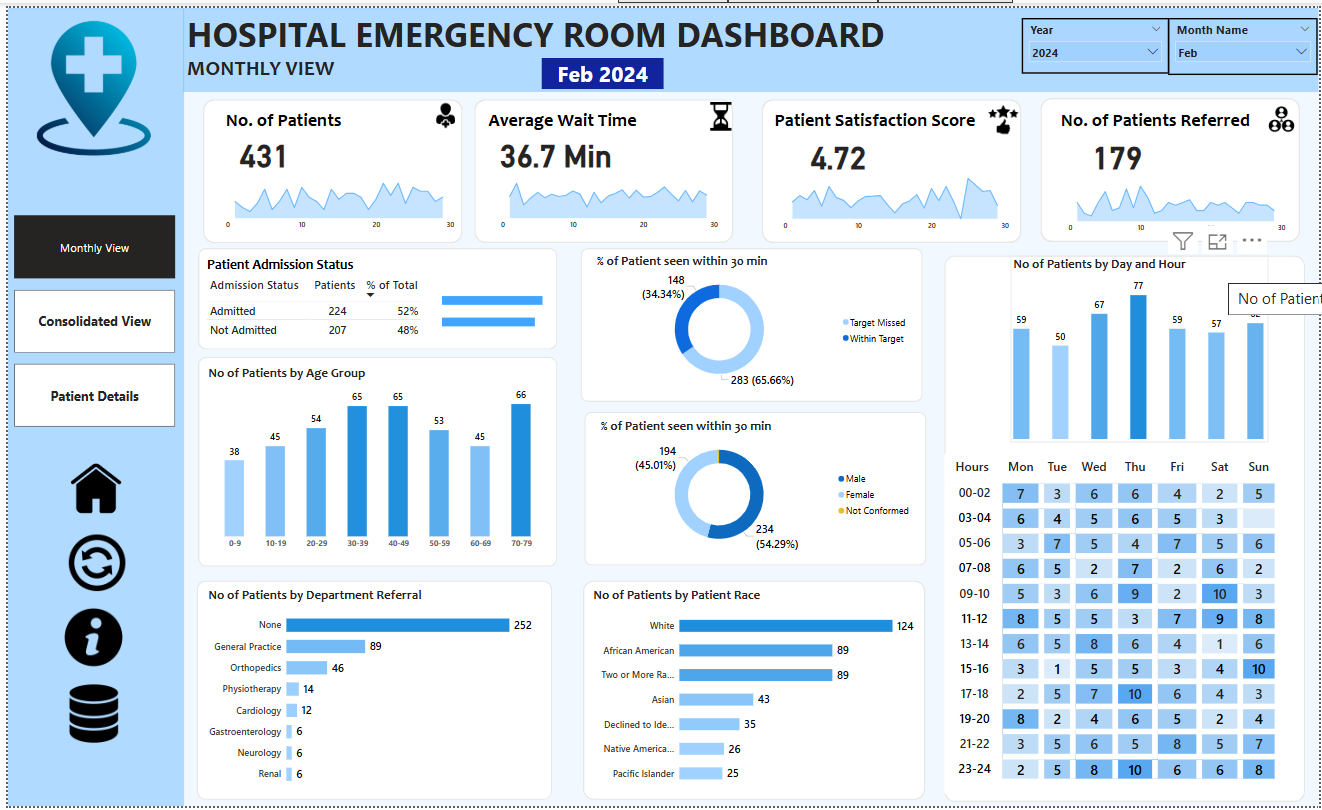

The page's visual inventory and layout, read from the dashboard file:
{"tool":"powerbi","page":{"name":"Monthly View","canvas":[2300,1400],"ordinal":0},"visuals":[{"type":"shape","box":[0,0,309.1,1400.5],"z":0},{"type":"shape","box":[307.5,0,1992.5,147.5],"z":1000},{"type":"textbox","box":[310,0,1250,117.5],"z":2000},{"type":"shape","box":[342.5,160,455,252.5],"z":3000},{"type":"textbox","box":[308,76,282,84],"z":4000},{"type":"card","fields":{"Values":["Hospital ER_Data.No of Patients"]},"box":[377.5,215,145,75],"z":5000},{"type":"slicer","fields":{"Values":["Date Table.Month Name"]},"box":[2034.9,18.6,262.8,100],"z":6000},{"type":"slicer","fields":{"Values":["Date Table.Year"]},"box":[1776.7,18.6,258.1,97.7],"z":7000},{"type":"shape","box":[818,160,454,252],"z":8000},{"type":"textbox","box":[837.5,170,287.5,50],"z":9000},{"type":"areaChart","fields":{"Category":["Date Table.Date.Variation.Date Hierarchy.Day"],"Y":["Hospital ER_Data.No of Patients"]},"box":[355,282.5,430,115],"z":10000},{"type":"card","fields":{"Values":["Min(Date Table.Month & Year)"]},"box":[936.8,88,214,54.7],"z":11000},{"type":"shape","box":[1320.8,159.3,455,252],"z":12000},{"type":"shape","box":[1810,157.5,455,252.5],"z":13000},{"type":"card","fields":{"Values":["Hospital ER_Data.Avg wait time"]},"box":[857.5,215,207.5,75],"z":14000},{"type":"textbox","box":[377.5,170,222.5,50],"z":15000},{"type":"areaChart","fields":{"Category":["Date Table.Date.Variation.Date Hierarchy.Day"],"Y":["Avg(Hospital ER_Data.Patient Waittime)"]},"box":[837.5,282.5,410,115],"z":16000},{"type":"textbox","box":[1340,170,392.5,50],"z":17000},{"type":"areaChart","fields":{"Category":["Date Table.Date.Variation.Date Hierarchy.Day"],"Y":["Hospital ER_Data.Satisfaction score"]},"box":[1332.5,285,425,115],"z":18000},{"type":"card","fields":{"Values":["Hospital ER_Data.Satisfaction score"]},"box":[1352.5,220,207.5,75],"z":19000},{"type":"textbox","box":[1840,170,392.5,50],"z":20000},{"type":"card","fields":{"Values":["Hospital ER_Data.No of patients referred"]},"box":[1840,220,207.5,75],"z":21000},{"type":"areaChart","fields":{"Category":["Date Table.Date.Variation.Date Hierarchy.Day"],"Y":["Hospital ER_Data.No of patients referred"]},"box":[1832.5,290,410,115],"z":22000},{"type":"shape","box":[334,420,630,178],"z":23000},{"type":"pivotTable","title":"Patient Admission Status","fields":{"Rows":["Hospital ER_Data.Admission status"],"Values":["Hospital ER_Data.No of Patients1","Hospital ER_Data.No of Patients"]},"box":[344.8,434.4,606,164],"z":24000},{"type":"barChart","fields":{"Category":["Hospital ER_Data.Admission status"],"Y":["Hospital ER_Data.No of Patients"]},"box":[756.8,472.8,246,112],"z":25000},{"type":"shape","box":[332.4,610.8,630,368],"z":26000},{"type":"clusteredColumnChart","fields":{"Category":["Hospital ER_Data.Age Group"],"Y":["Hospital ER_Data.No of Patients"]},"box":[346.4,624.8,606,334],"z":27000},{"type":"shape","box":[330.8,1003.1,623.1,384.6],"z":28000},{"type":"clusteredBarChart","fields":{"Category":["Hospital ER_Data.Department Referral"],"Y":["Hospital ER_Data.No of Patients"]},"box":[346.2,1015.4,580,361.5],"z":29000},{"type":"shape","box":[1004,420,600,270],"z":30000},{"type":"donutChart","title":"% of Patient seen within 30 min","fields":{"Category":["Hospital ER_Data.Waittime Status"],"Y":["Hospital ER_Data.No of Patients"]},"box":[1028.3,430,560,240],"z":31000},{"type":"shape","box":[1010,708.7,600,270],"z":32000},{"type":"donutChart","title":"% of Patient seen within 30 min","fields":{"Y":["Hospital ER_Data.No of Patients"],"Category":["Hospital ER_Data.Patient Gender"]},"box":[1034.3,718.7,560,240],"z":33000},{"type":"shape","box":[1007.7,1003.1,600,384.6],"z":34000},{"type":"clusteredBarChart","fields":{"Y":["Hospital ER_Data.No of Patients"],"Category":["Hospital ER_Data.Patient Race"]},"box":[1021.5,1015.4,572.3,361.5],"z":35000},{"type":"shape","box":[1641.9,434.9,632.6,958.1],"z":36000},{"type":"pivotTable","fields":{"Rows":["Hospital ER_Data.Waittime Interval"],"Columns":["Date Table.Day Name"],"Values":["Hospital ER_Data.No of Patients"]},"box":[1641.9,781.4,604.7,595.3],"z":37000},{"type":"columnChart","title":"No of Patients by Day and Hour","fields":{"Category":["Date Table.Day Name"],"Y":["Hospital ER_Data.No of Patients"]},"box":[1758.1,434.9,451.2,327.9],"z":38000},{"type":"image","box":[739.5,155.8,58.1,65.1],"z":39000},{"type":"image","box":[1146.5,160.5,207,60.5],"z":40000},{"type":"image","box":[1714,148.8,62.8,93],"z":41000},{"type":"image","box":[2204.7,155.8,55.8,79.1],"z":42000},{"type":"image","box":[0,18.6,300,246.5],"z":43000},{"type":"pageNavigator","box":[12,364,282,370],"z":44000},{"type":"image","box":[0,794.2,309.1,97.5],"z":45000},{"type":"image","box":[7.1,917.8,299.6,109.4],"z":46000},{"type":"image","box":[0,1179.4,299.6,116.5],"z":47000},{"type":"image","box":[0,1046.2,299.6,116.5],"z":48000}]}

Visuals, with their boxes in screenshot pixels (x1, y1, x2, y2), scaled from the page's 2300x1400 canvas onto the 1322x810 screenshot:
shape: rect(0, 0, 178, 809)
shape: rect(177, 0, 1321, 85)
textbox: rect(178, 0, 897, 68)
shape: rect(197, 93, 458, 239)
textbox: rect(177, 44, 339, 93)
card - Hospital ER_Data.No of Patients: rect(217, 124, 300, 168)
slicer - Date Table.Month Name: rect(1170, 11, 1321, 69)
slicer - Date Table.Year: rect(1021, 11, 1170, 67)
shape: rect(470, 93, 731, 238)
textbox: rect(481, 98, 647, 127)
areaChart - Date Table.Date.Variation.Date Hierarchy.Day x Hospital ER_Data.No of Patients: rect(204, 163, 451, 230)
card - Min(Date Table.Month & Year): rect(538, 51, 661, 83)
shape: rect(759, 92, 1021, 238)
shape: rect(1040, 91, 1302, 237)
card - Hospital ER_Data.Avg wait time: rect(493, 124, 612, 168)
textbox: rect(217, 98, 345, 127)
areaChart - Date Table.Date.Variation.Date Hierarchy.Day x Avg(Hospital ER_Data.Patient Waittime): rect(481, 163, 717, 230)
textbox: rect(770, 98, 996, 127)
areaChart - Date Table.Date.Variation.Date Hierarchy.Day x Hospital ER_Data.Satisfaction score: rect(766, 165, 1010, 231)
card - Hospital ER_Data.Satisfaction score: rect(777, 127, 897, 171)
textbox: rect(1058, 98, 1283, 127)
card - Hospital ER_Data.No of patients referred: rect(1058, 127, 1177, 171)
areaChart - Date Table.Date.Variation.Date Hierarchy.Day x Hospital ER_Data.No of patients referred: rect(1053, 168, 1289, 234)
shape: rect(192, 243, 554, 346)
"Patient Admission Status" pivotTable: rect(198, 251, 547, 346)
barChart - Hospital ER_Data.Admission status x Hospital ER_Data.No of Patients: rect(435, 274, 576, 338)
shape: rect(191, 353, 553, 566)
clusteredColumnChart - Hospital ER_Data.Age Group x Hospital ER_Data.No of Patients: rect(199, 361, 547, 555)
shape: rect(190, 580, 548, 803)
clusteredBarChart - Hospital ER_Data.Department Referral x Hospital ER_Data.No of Patients: rect(199, 587, 532, 797)
shape: rect(577, 243, 922, 399)
"% of Patient seen within 30 min" donutChart: rect(591, 249, 913, 388)
shape: rect(581, 410, 925, 566)
"% of Patient seen within 30 min" donutChart: rect(594, 416, 916, 555)
shape: rect(579, 580, 924, 803)
clusteredBarChart - Hospital ER_Data.No of Patients x Hospital ER_Data.Patient Race: rect(587, 587, 916, 797)
shape: rect(944, 252, 1307, 806)
pivotTable - Hospital ER_Data.Waittime Interval x Date Table.Day Name: rect(944, 452, 1291, 797)
"No of Patients by Day and Hour" columnChart: rect(1011, 252, 1270, 441)
image: rect(425, 90, 458, 128)
image: rect(659, 93, 778, 128)
image: rect(985, 86, 1021, 140)
image: rect(1267, 90, 1299, 136)
image: rect(0, 11, 172, 153)
pageNavigator: rect(7, 211, 169, 425)
image: rect(0, 460, 178, 516)
image: rect(4, 531, 176, 594)
image: rect(0, 682, 172, 750)
image: rect(0, 605, 172, 673)
